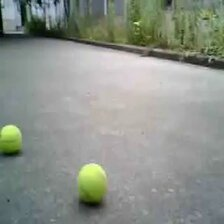tennis: (77, 164, 106, 203), (1, 124, 22, 153)
